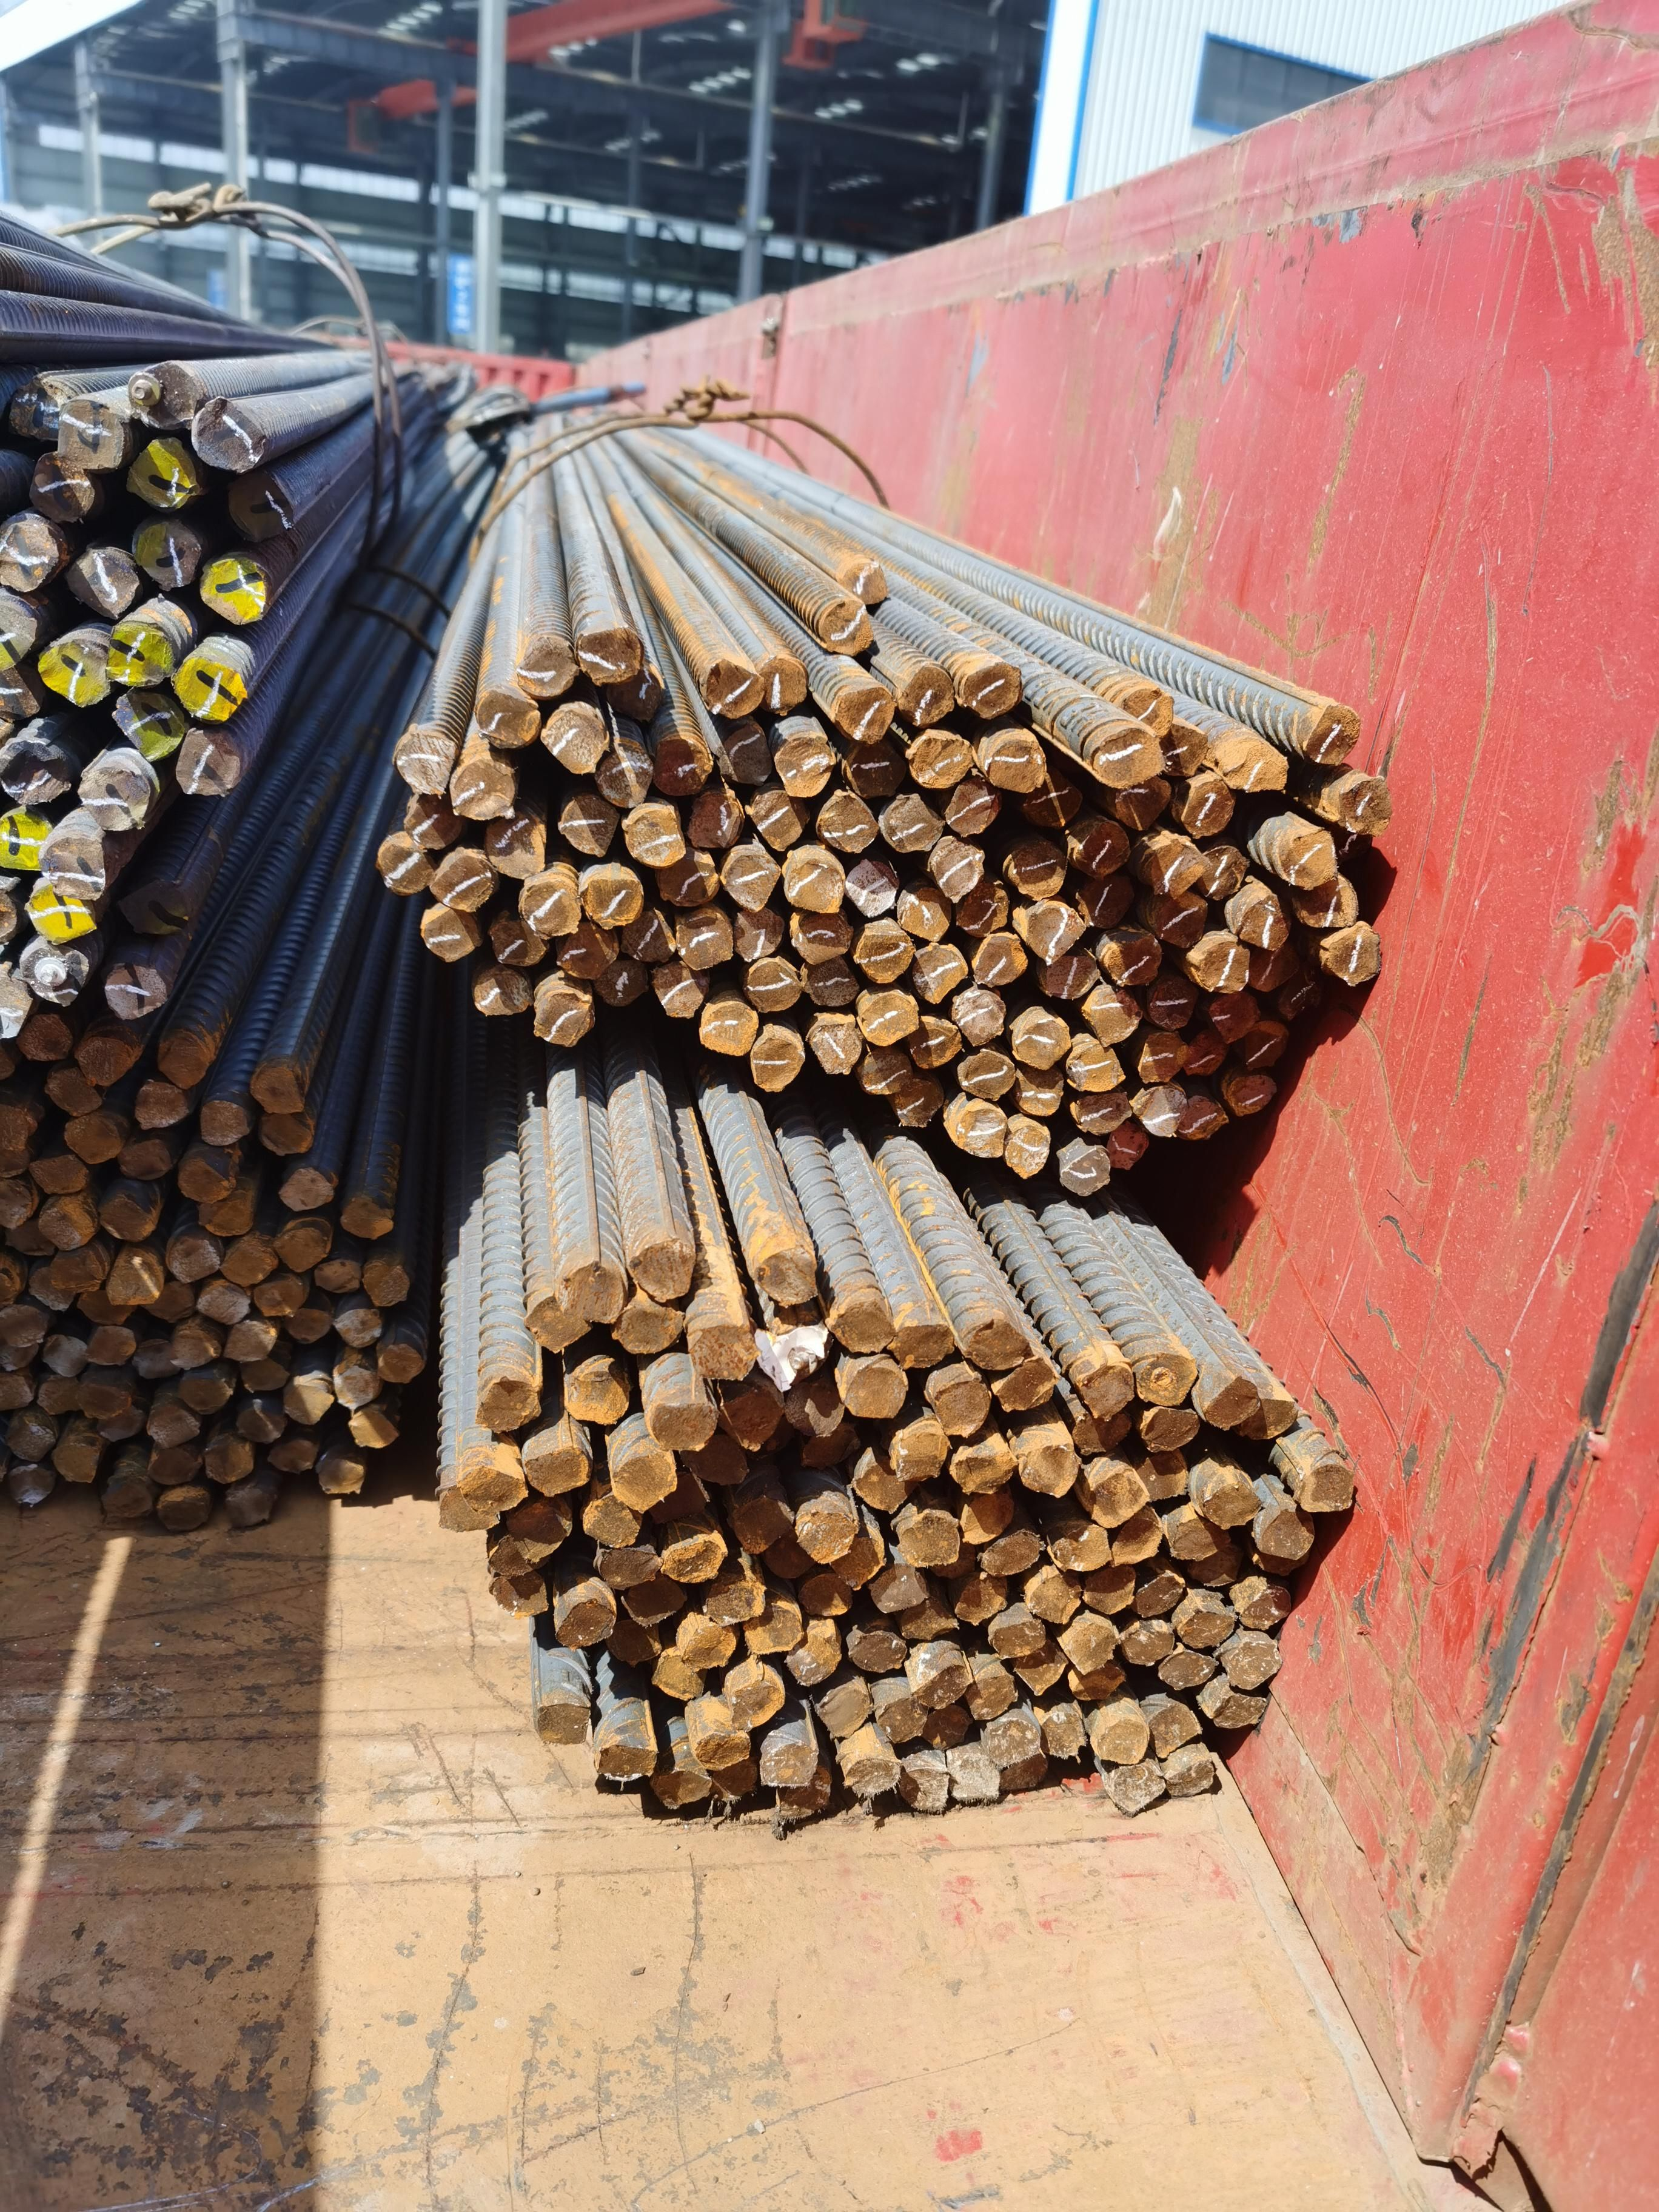rebar: (110, 686, 189, 764), (188, 397, 269, 473), (6, 372, 89, 444), (226, 466, 300, 547), (35, 634, 110, 711), (175, 649, 249, 725), (78, 759, 154, 835), (126, 361, 204, 431), (55, 398, 124, 475), (198, 553, 271, 628), (125, 438, 198, 512), (752, 1324, 830, 1393), (1089, 726, 1168, 793), (26, 450, 98, 523), (14, 942, 90, 1010), (1, 737, 71, 808), (74, 547, 142, 620), (173, 726, 243, 799), (130, 521, 203, 591), (389, 726, 458, 798), (540, 706, 612, 777), (557, 1258, 628, 1327), (840, 1354, 911, 1421), (609, 1293, 684, 1358), (746, 1245, 822, 1309), (560, 1360, 629, 1428), (24, 879, 96, 946), (450, 756, 517, 824), (625, 1239, 695, 1305), (121, 879, 194, 942), (1, 520, 61, 596), (41, 836, 109, 902), (1298, 703, 1366, 768), (717, 1386, 784, 1452), (473, 686, 541, 751), (1140, 840, 1211, 902), (486, 809, 546, 882), (104, 622, 172, 688), (876, 789, 941, 854), (621, 803, 689, 868), (102, 962, 173, 1021), (852, 920, 916, 985), (1085, 1466, 1150, 1530), (779, 1378, 846, 1441), (474, 1375, 544, 1436), (608, 1452, 679, 1513), (992, 1354, 1061, 1413), (1333, 773, 1398, 838), (510, 1501, 575, 1565), (731, 1491, 796, 1555), (577, 624, 643, 686), (558, 793, 620, 859), (524, 1293, 592, 1355), (928, 834, 987, 905), (648, 1397, 720, 1455), (1278, 828, 1342, 891), (794, 1504, 858, 1565), (581, 872, 646, 933), (688, 1323, 759, 1382), (658, 1528, 728, 1586), (1220, 740, 1291, 796), (518, 876, 582, 939), (532, 987, 594, 1048), (722, 852, 783, 914), (774, 736, 836, 799), (817, 793, 880, 854), (1024, 904, 1088, 966), (1319, 927, 1382, 990), (931, 1374, 991, 1438), (1198, 1372, 1259, 1435), (715, 723, 774, 788), (984, 737, 1050, 796), (1016, 1440, 1082, 1500), (1229, 1572, 1295, 1632), (834, 686, 897, 746), (960, 660, 1023, 721), (1084, 988, 1144, 1050), (580, 1492, 643, 1552), (154, 1027, 213, 1090), (703, 655, 764, 720), (1024, 767, 1084, 830), (1135, 1351, 1198, 1411), (1179, 774, 1238, 841), (2, 809, 54, 880), (432, 854, 495, 912), (743, 788, 803, 853), (897, 665, 956, 728), (803, 1013, 863, 1076), (897, 1511, 961, 1569), (522, 1446, 591, 1499), (672, 911, 734, 971), (954, 879, 1012, 938), (1077, 1361, 1138, 1422), (517, 642, 578, 700), (909, 732, 973, 791), (1297, 873, 1359, 930), (833, 1297, 896, 1356), (914, 942, 968, 1007), (1107, 1504, 1162, 1567), (456, 1464, 529, 1514), (888, 1322, 956, 1373), (965, 1319, 1034, 1372), (685, 1438, 754, 1489), (654, 739, 713, 798), (1062, 1615, 1122, 1674), (859, 991, 920, 1048), (1109, 1759, 1166, 1820), (400, 795, 463, 850), (818, 597, 874, 660), (1101, 932, 1164, 988), (657, 854, 721, 910), (740, 1601, 805, 1655), (75, 1035, 142, 1087), (551, 1597, 617, 1649), (703, 1576, 769, 1628), (1150, 891, 1210, 948), (373, 839, 434, 896), (686, 788, 743, 851), (697, 1001, 759, 1057), (848, 1461, 910, 1517), (1048, 1519, 1111, 1575), (555, 924, 618, 979), (865, 1563, 930, 1616), (800, 958, 865, 1008), (953, 1447, 1019, 1498), (595, 1545, 663, 1593), (1199, 1481, 1267, 1530), (945, 783, 1002, 839), (787, 857, 846, 915), (1120, 685, 1178, 742), (786, 1630, 844, 1688), (132, 1078, 192, 1133), (743, 958, 801, 1014), (774, 1768, 833, 1823), (845, 857, 899, 919), (789, 914, 850, 968), (957, 1493, 1020, 1546), (756, 654, 808, 720), (436, 1485, 501, 1535), (37, 1195, 94, 1251), (1076, 816, 1133, 874), (973, 933, 1028, 990), (953, 991, 1008, 1048), (1113, 779, 1170, 835), (1135, 1082, 1190, 1140), (1195, 939, 1252, 995), (615, 665, 671, 723), (728, 1675, 785, 1732), (829, 1535, 886, 1591), (1081, 1562, 1138, 1618), (472, 968, 532, 1022), (846, 745, 907, 800), (1007, 847, 1067, 900), (1235, 896, 1290, 955), (813, 1684, 873, 1739), (1256, 1508, 1315, 1562), (62, 1113, 122, 1166), (488, 917, 549, 970), (977, 1529, 1043, 1577), (961, 1048, 1017, 1104), (1012, 1640, 1069, 1697), (1027, 1570, 1082, 1626), (1147, 1702, 1202, 1757), (599, 756, 657, 809), (751, 1036, 805, 1094), (1014, 1018, 1072, 1073), (1225, 1637, 1283, 1691), (621, 1581, 689, 1627), (1, 596, 38, 675), (197, 1190, 260, 1238), (1070, 1089, 1133, 1138), (16, 1012, 72, 1065), (252, 1062, 307, 1116), (595, 953, 649, 1006), (896, 890, 951, 944), (955, 1105, 1008, 1161), (652, 1647, 706, 1703), (891, 1429, 947, 1482), (221, 1237, 280, 1289), (419, 910, 475, 964), (653, 962, 705, 1019), (1078, 876, 1134, 929), (952, 1575, 1009, 1627), (984, 1718, 1043, 1770), (1298, 1463, 1356, 1515), (1161, 1744, 1218, 1798), (1134, 1449, 1191, 1502), (1161, 722, 1210, 782), (757, 1740, 818, 1790), (1167, 1505, 1218, 1564), (1116, 1620, 1177, 1671), (1157, 1643, 1218, 1691), (592, 1742, 660, 1785), (488, 1574, 551, 1620), (910, 1664, 973, 1712), (988, 1617, 1051, 1663), (1069, 1409, 1133, 1455), (1208, 991, 1261, 1045), (275, 1225, 332, 1277), (626, 909, 677, 965), (733, 907, 786, 962), (1057, 1145, 1113, 1199), (176, 1153, 233, 1204), (277, 1164, 335, 1213), (105, 1258, 162, 1307), (164, 1235, 221, 1285), (1002, 1124, 1052, 1181), (680, 1623, 737, 1674), (1240, 1394, 1298, 1443), (1093, 1715, 1150, 1766), (339, 1192, 398, 1241), (1040, 952, 1101, 1000), (1141, 1407, 1202, 1452), (101, 1191, 155, 1244), (890, 1077, 943, 1130), (900, 1764, 953, 1817), (949, 1751, 1002, 1805), (909, 1019, 965, 1070), (1234, 1018, 1290, 1070), (1201, 844, 1250, 902), (44, 1072, 104, 1119), (859, 1045, 911, 1097), (1136, 1034, 1189, 1086), (1071, 1044, 1126, 1094), (876, 1695, 929, 1744), (260, 1112, 315, 1161), (193, 1099, 250, 1147), (1149, 977, 1198, 1033), (608, 1618, 665, 1667), (534, 1700, 591, 1747), (796, 1432, 861, 1473), (142, 1404, 201, 1450), (1179, 1606, 1237, 1652), (848, 1632, 909, 1675), (899, 1601, 960, 1644), (101, 1475, 153, 1525), (1014, 1067, 1065, 1118), (799, 1572, 854, 1618), (1067, 1660, 1130, 1702), (843, 1754, 902, 1798), (4, 1413, 55, 1464), (202, 1433, 253, 1484), (839, 556, 890, 607), (1134, 1570, 1185, 1621), (6, 1463, 57, 1512), (968, 1673, 1021, 1723), (1207, 1690, 1269, 1731), (50, 1248, 101, 1298), (361, 1261, 411, 1310), (1041, 1711, 1088, 1761), (330, 1304, 383, 1350), (234, 1399, 286, 1446), (1181, 1092, 1228, 1144), (32, 1152, 85, 1196), (253, 1273, 307, 1319), (657, 1766, 711, 1812), (195, 1282, 251, 1326), (146, 1444, 202, 1487), (1222, 1074, 1278, 1118), (694, 1730, 752, 1771), (40, 1330, 90, 1379), (223, 1318, 278, 1362), (347, 1407, 400, 1450), (51, 1439, 100, 1485), (157, 1487, 208, 1533), (223, 1486, 273, 1531), (1188, 1544, 1241, 1589), (1104, 1124, 1150, 1171), (87, 1322, 136, 1367), (1179, 1031, 1227, 1076), (924, 1704, 973, 1751), (120, 1138, 170, 1181), (129, 1337, 179, 1381), (168, 1328, 218, 1370), (487, 1536, 536, 1580), (2, 1302, 47, 1350), (286, 1382, 335, 1426), (1278, 977, 1326, 1021), (79, 1379, 132, 1419), (334, 1365, 380, 1411), (29, 1266, 73, 1313), (37, 1374, 84, 1417), (375, 1341, 424, 1384), (282, 1306, 335, 1344), (179, 1373, 232, 1413), (79, 1289, 133, 1326), (714, 1756, 759, 1800), (313, 1256, 361, 1298), (1251, 948, 1293, 994), (241, 1357, 290, 1396), (150, 1279, 194, 1324), (1002, 1752, 1048, 1794), (317, 1458, 364, 1498), (1, 1183, 38, 1232), (267, 1436, 318, 1472), (1, 1105, 37, 1155), (95, 1409, 145, 1443), (2, 1372, 33, 1414)
